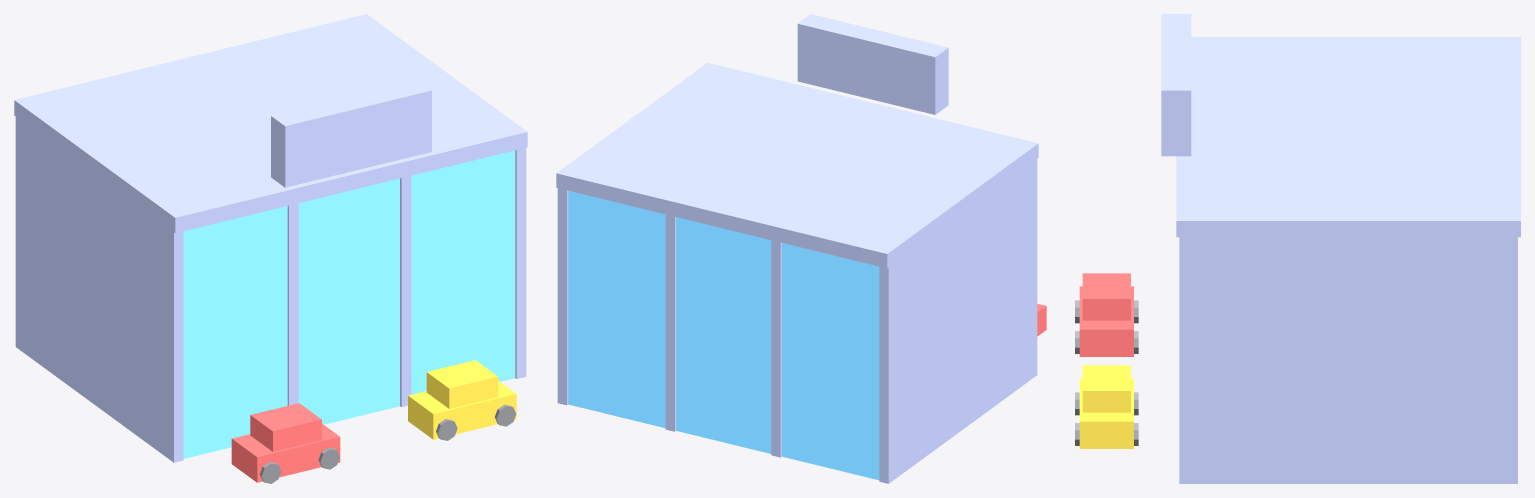
Rendered from dealership.glb.
3 renders of one model, left to right at view 1: azimuth 30°, elevation 25°; view 2: azimuth 150°, elevation 25°; view 3: azimuth 270°, elevation 25°, orthographic. The views are drawn at different scales.
Parts seen in each view (by area): view 1: dealership; view 2: dealership; view 3: dealership.
Part boxes in pixels (x1,y1,x2,y2): dealership: (14,14,527,483); dealership: (556,14,1046,483); dealership: (1075,14,1520,483).
Size of the model in its own units: 1.44 by 1.24 by 1.47.
